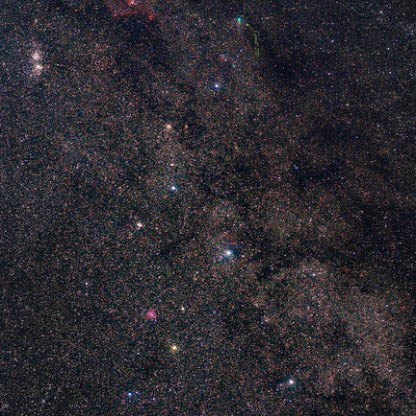Cassiopeia: (165, 297, 193, 354), (271, 364, 310, 398), (207, 73, 235, 112), (159, 171, 191, 203), (213, 237, 245, 268)
